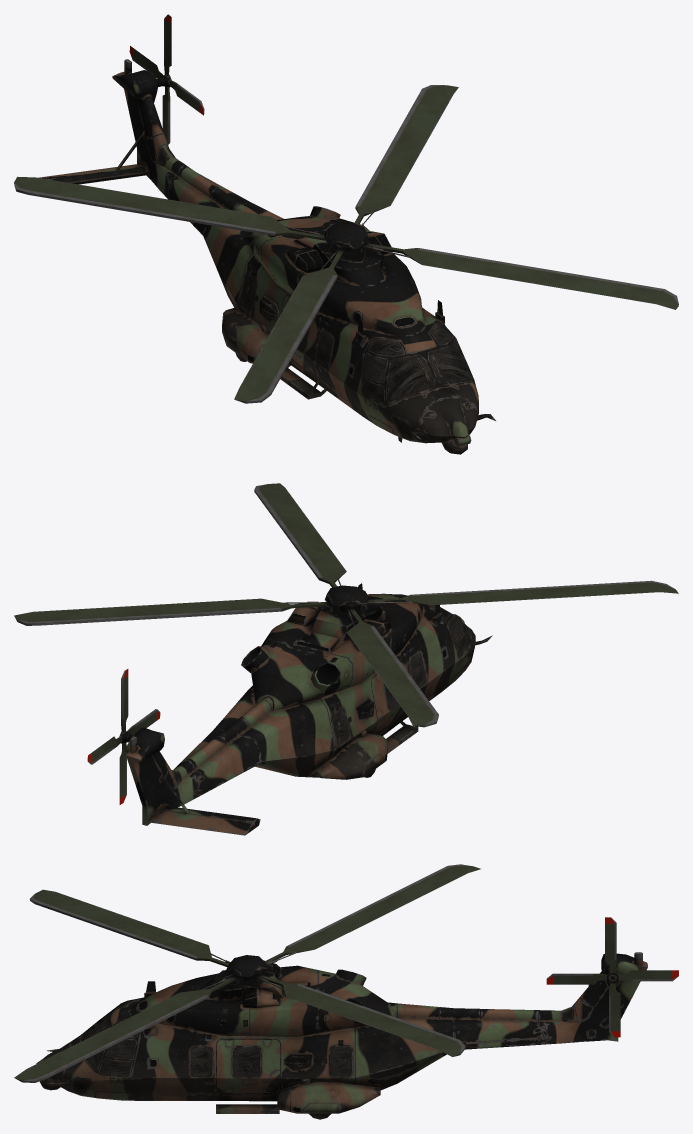
3 views of the same model, one above another, from view 1: azimuth 30°, elevation 25°; view 2: azimuth 150°, elevation 25°; view 3: azimuth 270°, elevation 25° (orthographic). The views are drawn at different scales.
Parts seen in each view (by area): view 1: nh90_lowpoly_fuselage_2, nh90_lowpoly_main_rotor_0, nh90_lowpoly_tail_rotor_1; view 2: nh90_lowpoly_fuselage_2, nh90_lowpoly_main_rotor_0, nh90_lowpoly_tail_rotor_1; view 3: nh90_lowpoly_fuselage_2, nh90_lowpoly_main_rotor_0, nh90_lowpoly_tail_rotor_1.
Part boxes in pixels (box(x1,y1,x2,y2)): nh90_lowpoly_fuselage_2: box(39, 59, 495, 454); nh90_lowpoly_main_rotor_0: box(14, 85, 678, 403); nh90_lowpoly_tail_rotor_1: box(129, 14, 204, 144); nh90_lowpoly_fuselage_2: box(125, 583, 492, 835); nh90_lowpoly_main_rotor_0: box(14, 483, 678, 727); nh90_lowpoly_tail_rotor_1: box(87, 669, 160, 804); nh90_lowpoly_fuselage_2: box(36, 952, 647, 1119); nh90_lowpoly_main_rotor_0: box(14, 864, 480, 1082); nh90_lowpoly_tail_rotor_1: box(546, 917, 678, 1037).
Size of the model in its own units: 12.34 by 5.49 by 17.49.
Materials: 1 (1 with a texture image).
